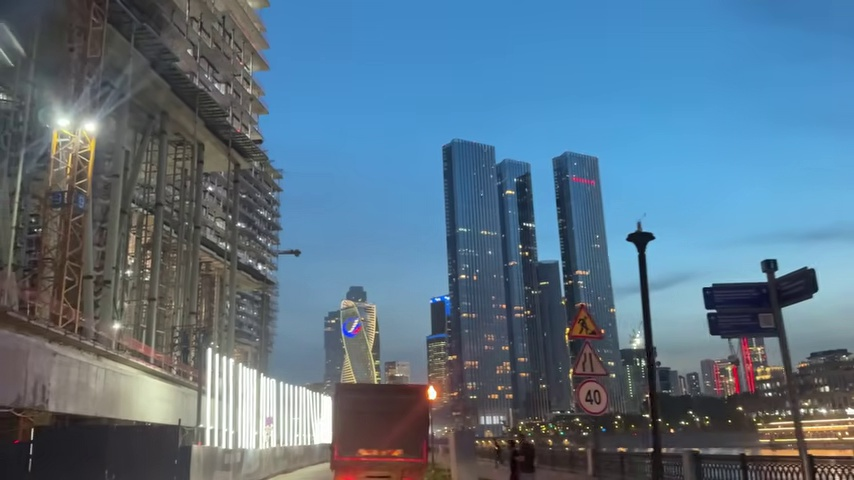apagada: (623, 225, 656, 253)
